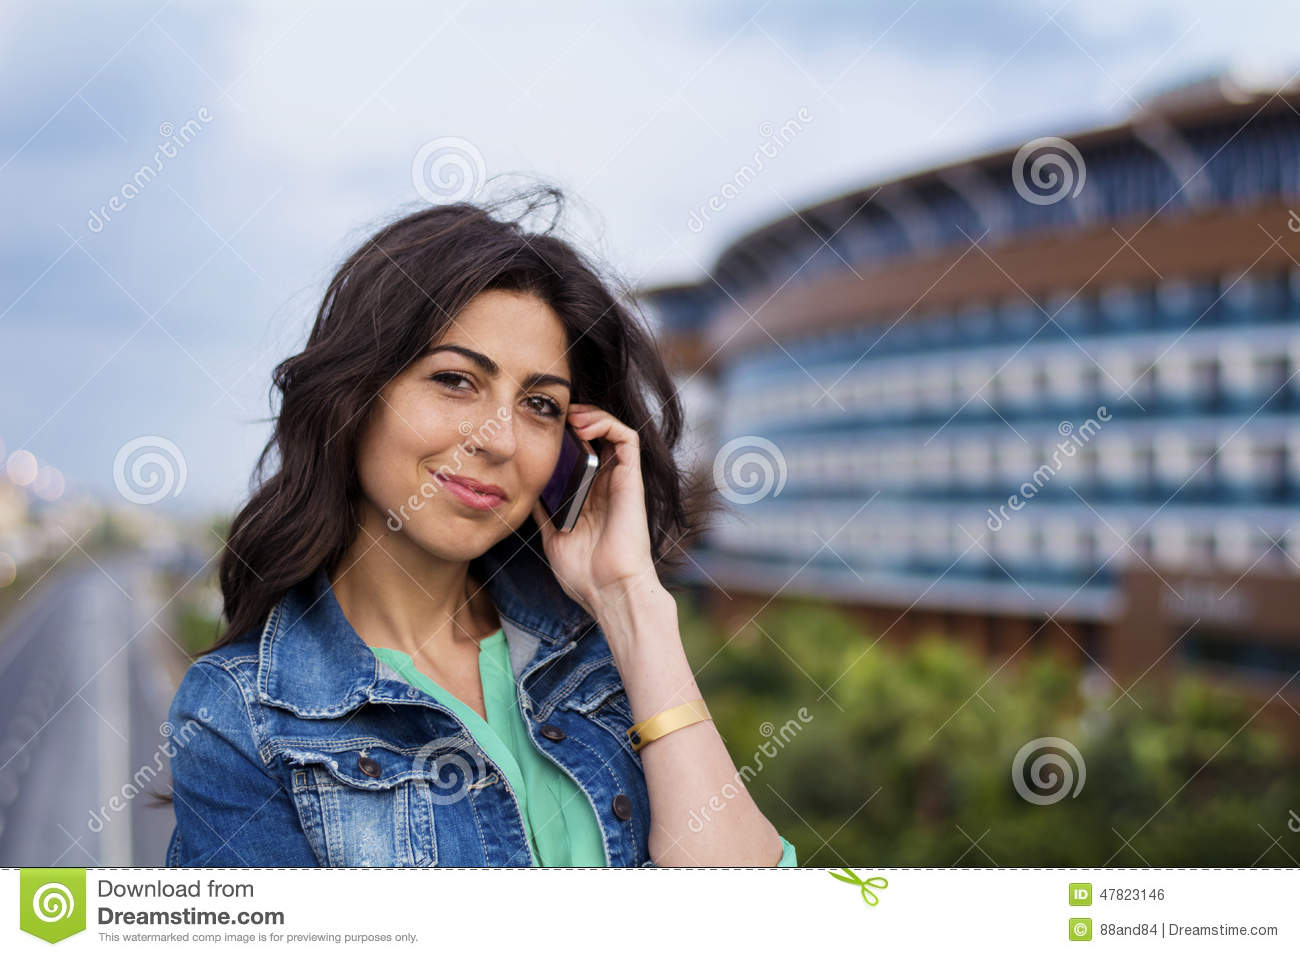phone: (541, 429, 597, 534)
talk: (385, 335, 661, 626)
